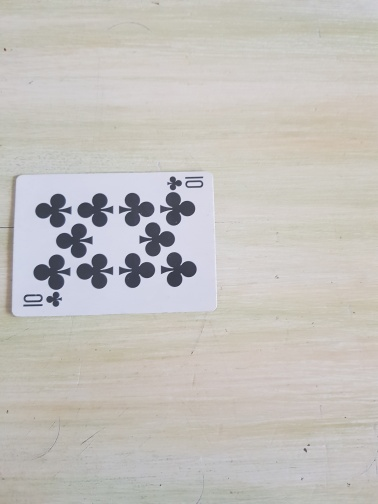ten: (10, 168, 218, 319)
